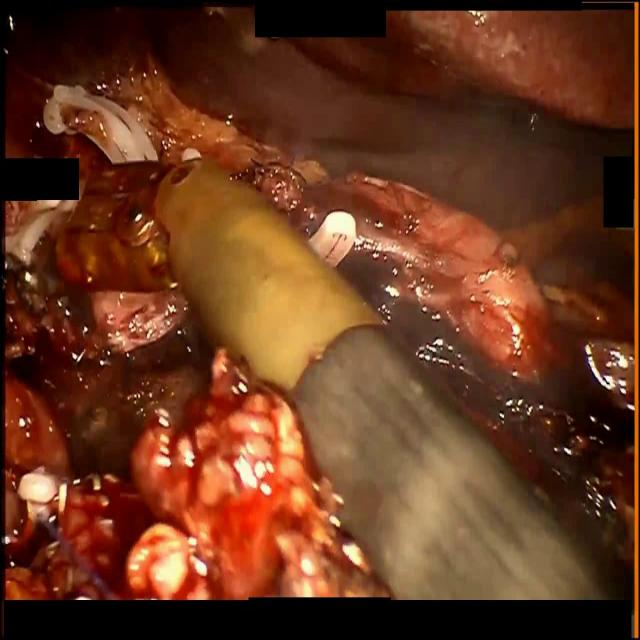surgical-area: (4, 7, 634, 604)
surgical-tool: (50, 155, 628, 604)
